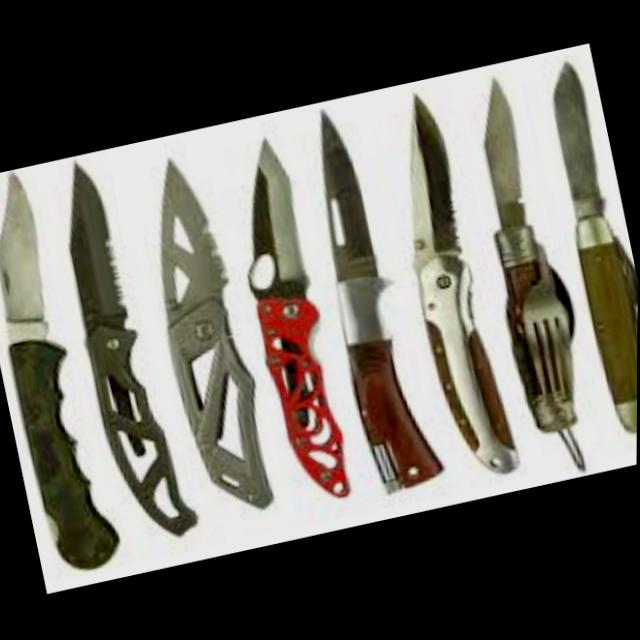knife: (454, 66, 608, 481), (45, 146, 202, 546), (293, 96, 447, 495), (374, 82, 524, 482), (129, 146, 280, 519), (0, 161, 126, 574), (217, 132, 356, 506), (534, 54, 640, 438)
